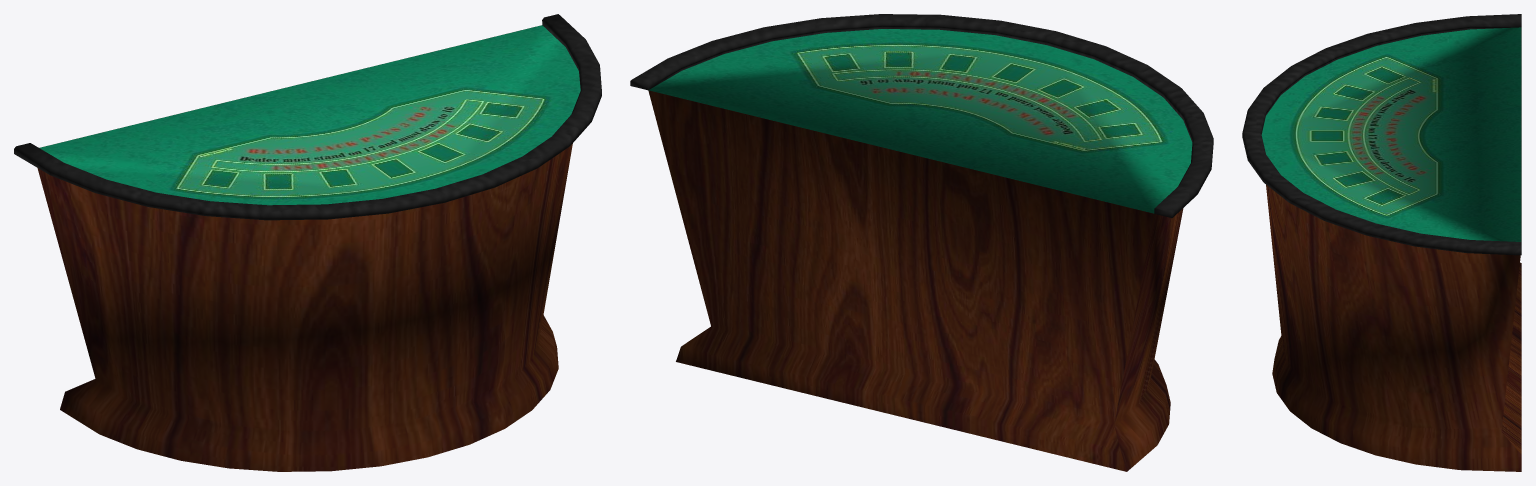
The model's file is Blackjack bord.fbx.
3 views of the same model, side by side, from view 1: azimuth 30°, elevation 25°; view 2: azimuth 150°, elevation 25°; view 3: azimuth 270°, elevation 25° (orthographic). The views are drawn at different scales.
Visible parts, largest first — view 1: Circle; view 2: Circle; view 3: Circle.
Boxes of the visible parts, <box> form: Circle: <box>14,14,601,471</box>; Circle: <box>630,14,1213,471</box>; Circle: <box>1242,14,1521,471</box>.
Bounding box in the file's own units: 214 × 103 × 107.
Materials: 1 (1 with a texture image).
